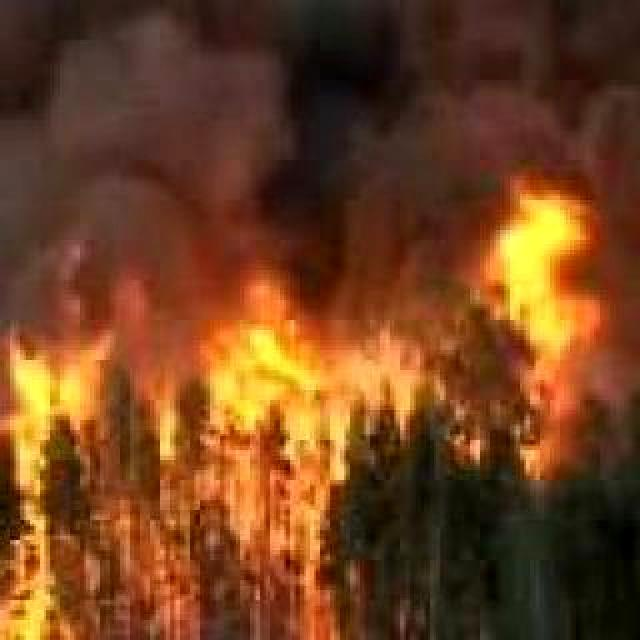fire: (0, 308, 360, 640), (498, 162, 606, 464)
